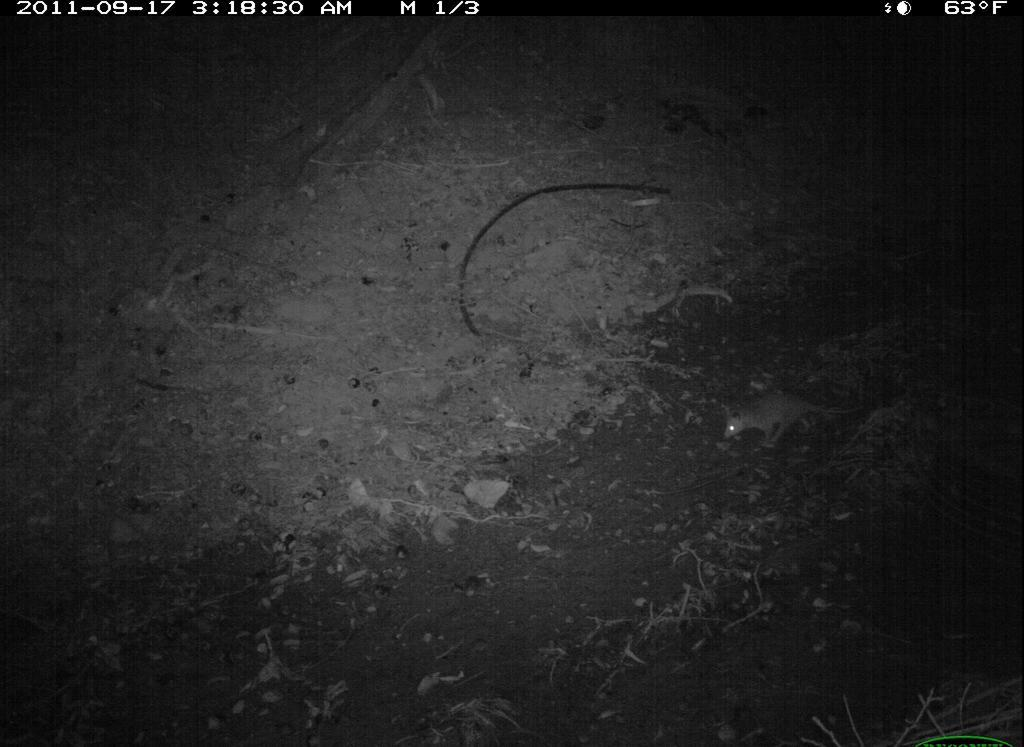opossum: (679, 363, 891, 479)
